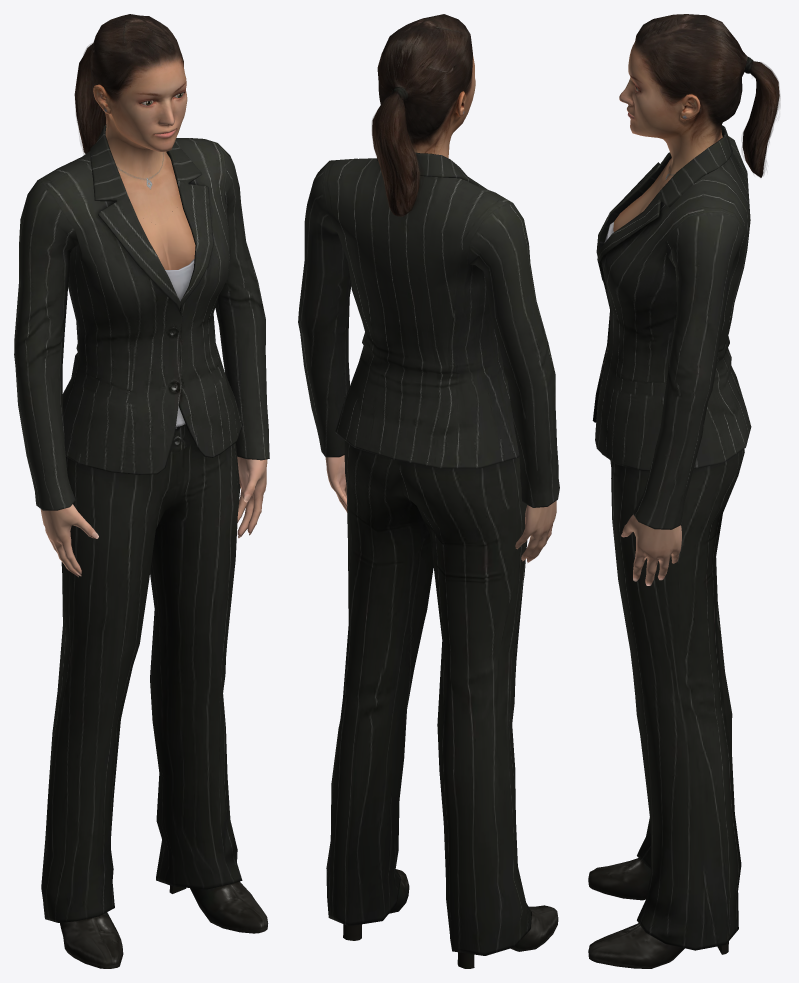
File: female-business-04.glb
The picture shows the model from 3 angles, left to right: view 1: azimuth 30°, elevation 25°; view 2: azimuth 150°, elevation 25°; view 3: azimuth 270°, elevation 25°; orthographic projection. The views are drawn at different scales.
Parts seen in each view (by area): view 1: f020_hipoly_81_bones_opacity; view 2: f020_hipoly_81_bones_opacity; view 3: f020_hipoly_81_bones_opacity.
Part boxes in pixels (bbox=[...]): f020_hipoly_81_bones_opacity: bbox=[14, 14, 269, 968]; f020_hipoly_81_bones_opacity: bbox=[298, 14, 559, 968]; f020_hipoly_81_bones_opacity: bbox=[588, 14, 780, 968].
Size of the model in its own units: 0.4805 by 1.7 by 0.3336.
3 materials, 3 textured.
